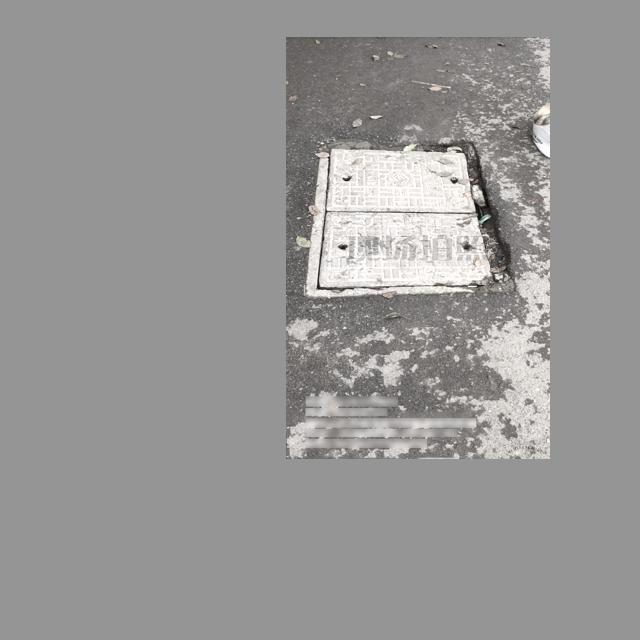circle: (308, 142, 517, 296)
